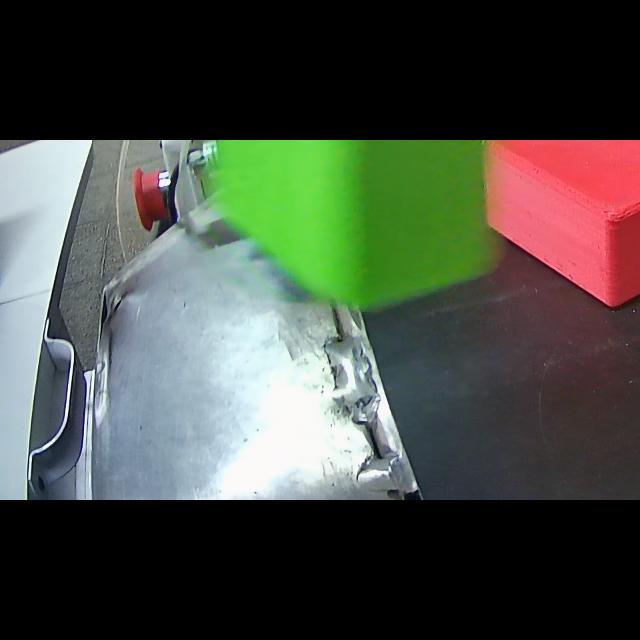greenBox: (207, 140, 525, 316)
redBox: (480, 140, 640, 310)
